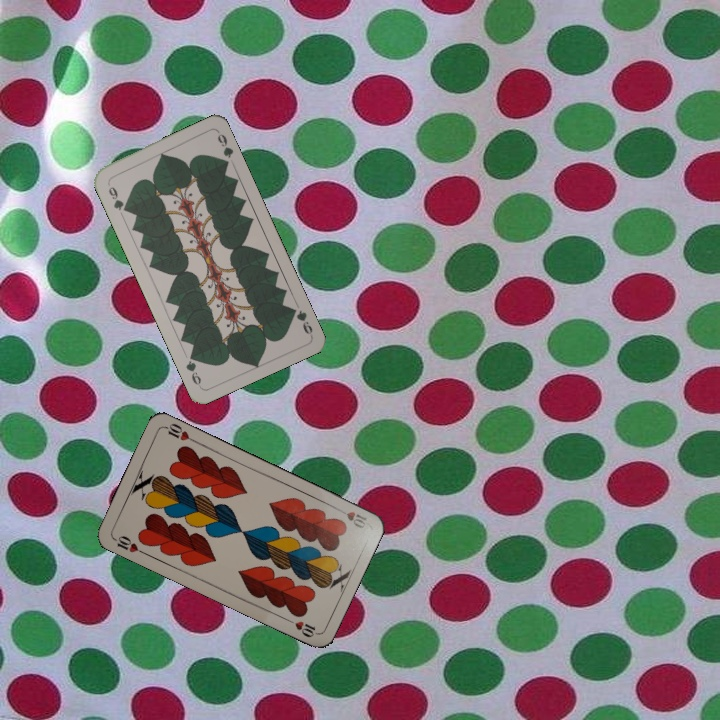G9: (286, 303, 315, 338), (103, 179, 130, 215)
H10: (332, 504, 369, 531), (109, 532, 148, 557)
